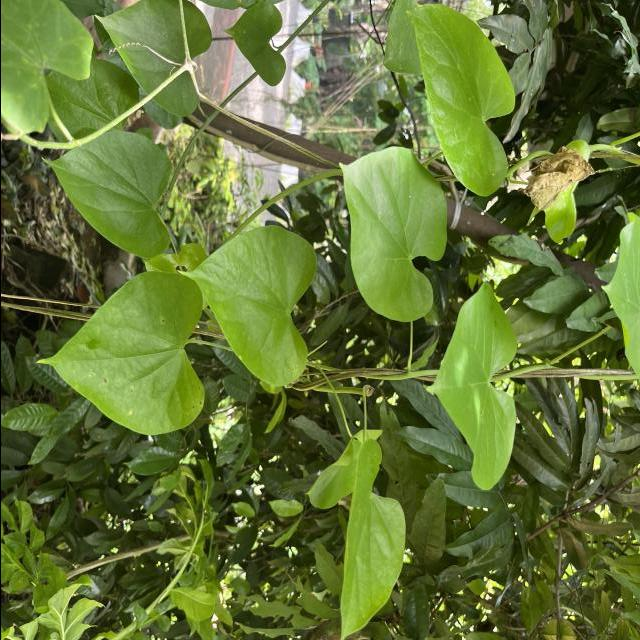Tinospora cordifolia: (31, 268, 206, 438), (172, 222, 320, 388), (400, 2, 516, 200), (335, 145, 450, 324), (430, 279, 519, 492), (37, 127, 172, 260), (338, 436, 408, 640)
